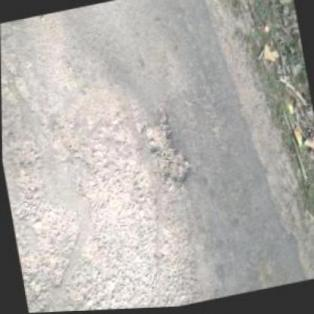Hueco: (141, 113, 192, 192)
